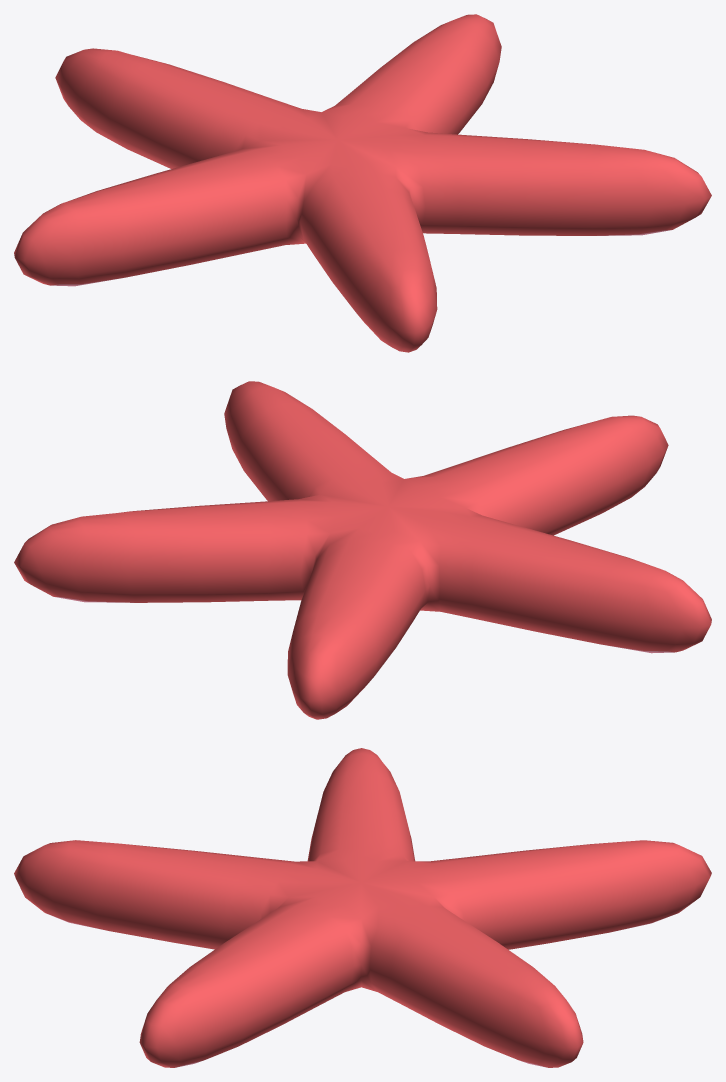
The model's file is Starfish_02.fbx.
The picture shows the model from 3 angles, top to bottom: view 1: azimuth 30°, elevation 25°; view 2: azimuth 150°, elevation 25°; view 3: azimuth 270°, elevation 25°; orthographic projection. The views are drawn at different scales.
Visible parts, largest first — view 1: Starfish_02_LOD0; view 2: Starfish_02_LOD0; view 3: Starfish_02_LOD0.
Part boxes in pixels (x1,y1,x2,y2): Starfish_02_LOD0: (14,14,711,352); Starfish_02_LOD0: (14,381,711,719); Starfish_02_LOD0: (14,748,711,1067).
Size of what is drawn, in the model's own units: 501 by 64 by 525.
